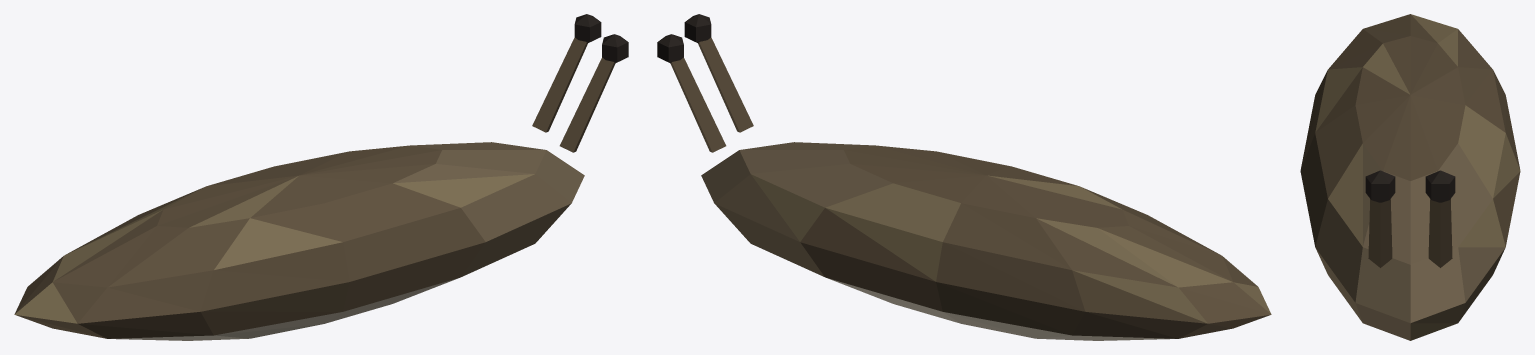
Rendered from food-slug.glb.
3 renders of one model, left to right at view 1: azimuth 30°, elevation 25°; view 2: azimuth 150°, elevation 25°; view 3: azimuth 270°, elevation 25°, orthographic. The views are drawn at different scales.
Size of the model in its own units: 3.76 by 1.31 by 1.1.
